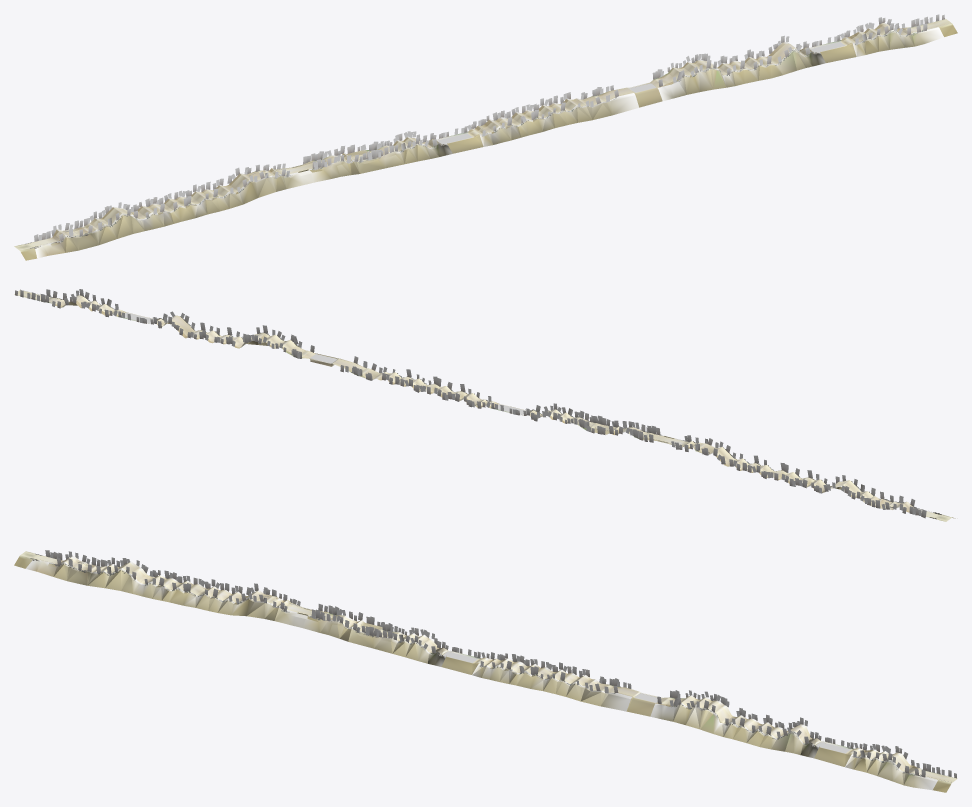
Rendered from Beach_12.fbx.
The picture shows the model from 3 angles, top to bottom: view 1: azimuth 30°, elevation 25°; view 2: azimuth 150°, elevation 25°; view 3: azimuth 330°, elevation 25°; orthographic projection.
Visible parts, largest first — view 1: Mountain_01, Tree_01, Ground_01, Road_01; view 2: Tree_01, Ground_01, Road_01; view 3: Mountain_01, Tree_01, Ground_01, Road_01.
Part boxes in pixels (x1=…): Mountain_01: x1=35, y1=27, x2=943, y2=258; Tree_01: x1=34, y1=14, x2=944, y2=248; Ground_01: x1=15, y1=19, x2=951, y2=250; Road_01: x1=14, y1=19, x2=957, y2=260; Tree_01: x1=15, y1=289, x2=939, y2=518; Ground_01: x1=17, y1=290, x2=951, y2=521; Road_01: x1=14, y1=291, x2=955, y2=521; Mountain_01: x1=25, y1=559, x2=937, y2=790; Tree_01: x1=32, y1=550, x2=956, y2=778; Ground_01: x1=20, y1=551, x2=956, y2=782; Road_01: x1=14, y1=551, x2=957, y2=792.
Bounding box in the file's own units: 122316 × 4076 × 3871.
